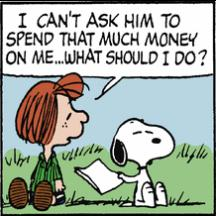snoopy: (110, 116, 176, 208)
